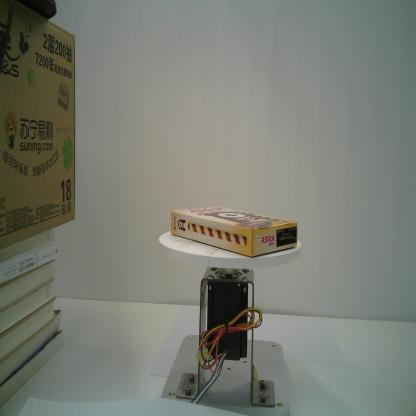Dessert: (172, 204, 298, 258)
